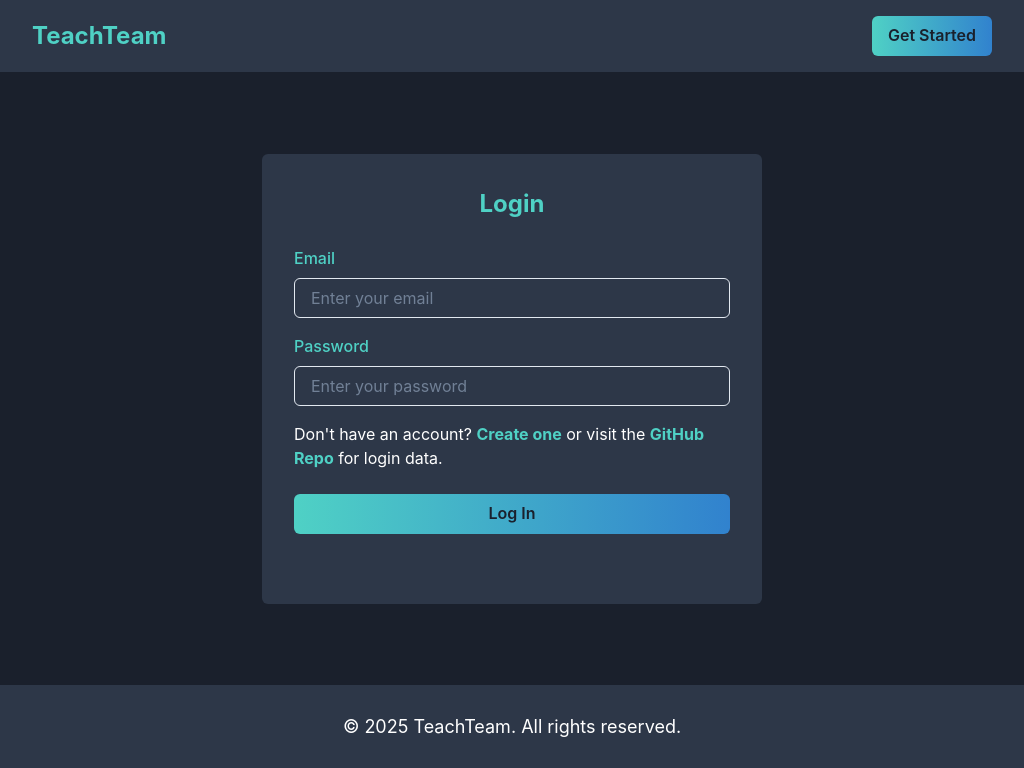
Test: displays error toast when logging in with incorrect credentials
Type "wronguser@rmit.edu.au" into the field with placeholder "Enter your email" at {"x": 512, "y": 298}, box [294,278,730,318]
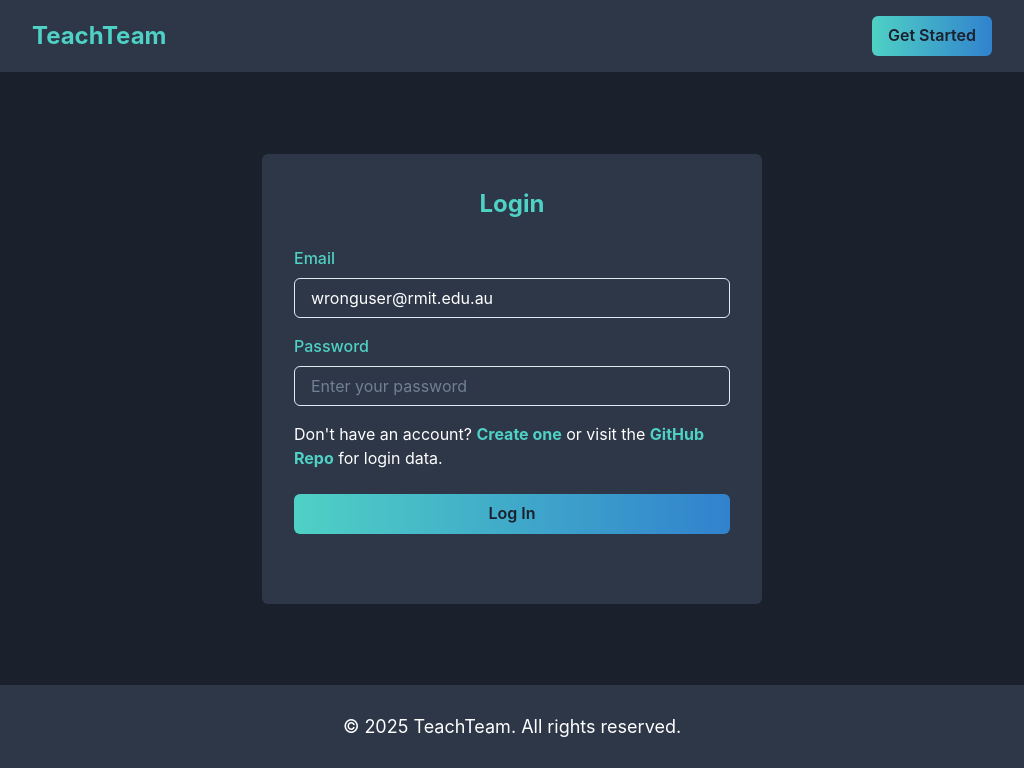
Type "wrongpassword" into the password field with placeholder "Enter your password" at {"x": 512, "y": 386}, box [294,366,730,406]
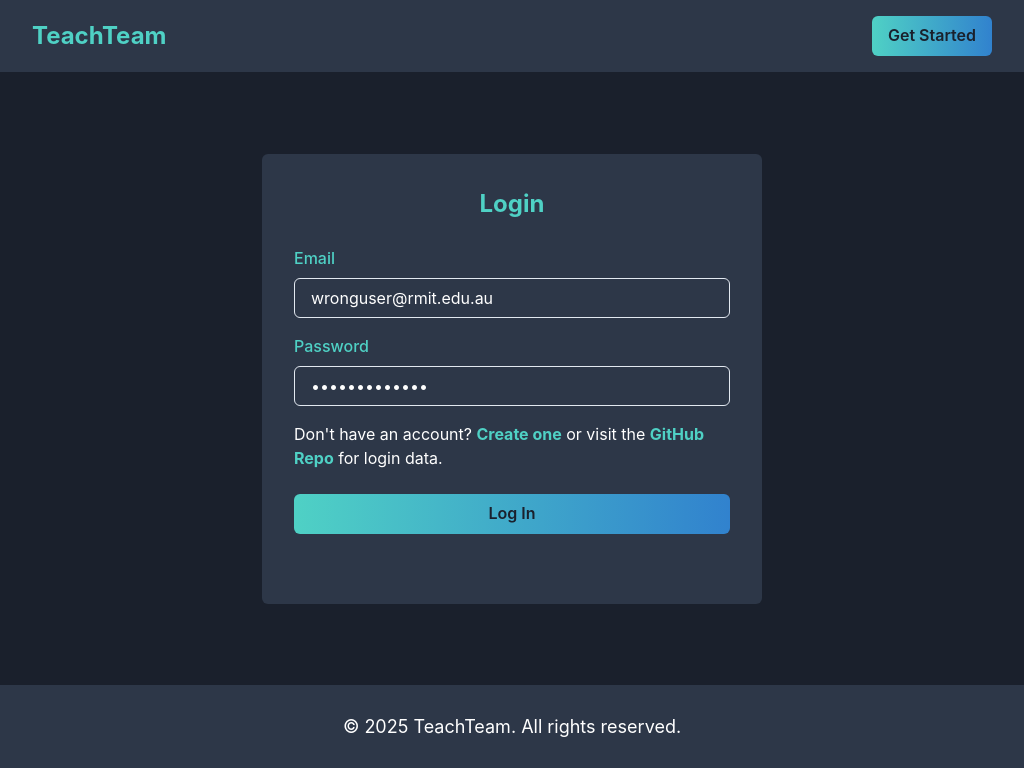
Click the button "Log In" at {"x": 512, "y": 514}, box [294,494,730,534]
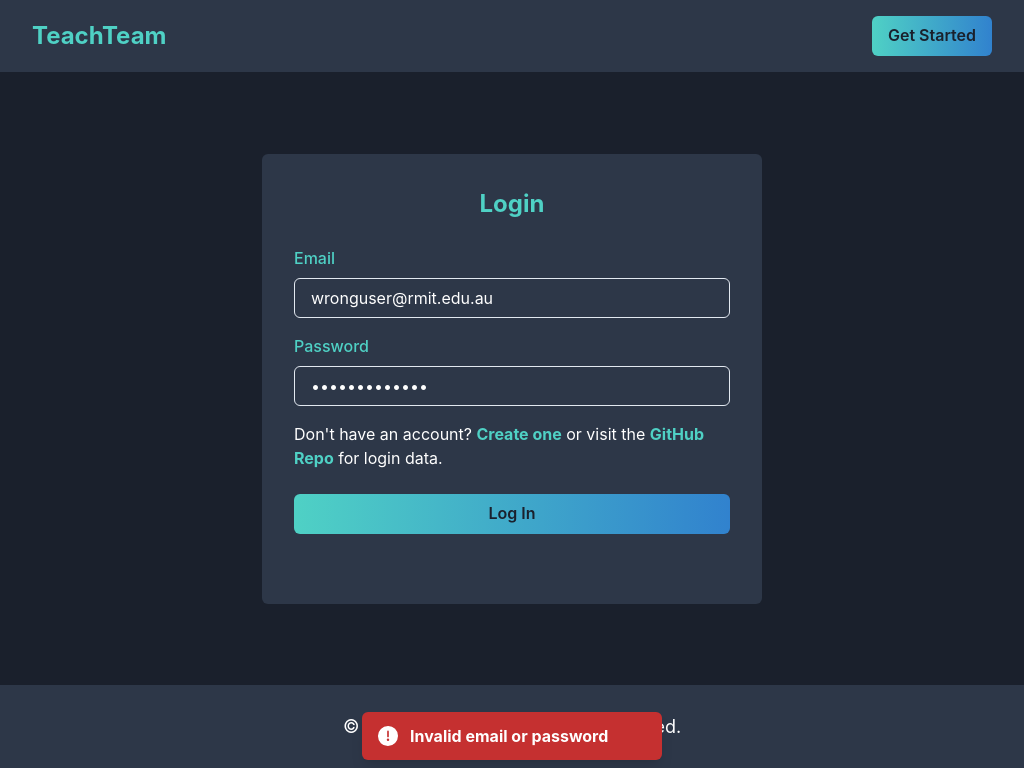
Expected: the text "Invalid email or password" is shown, [410,724,622,748]
